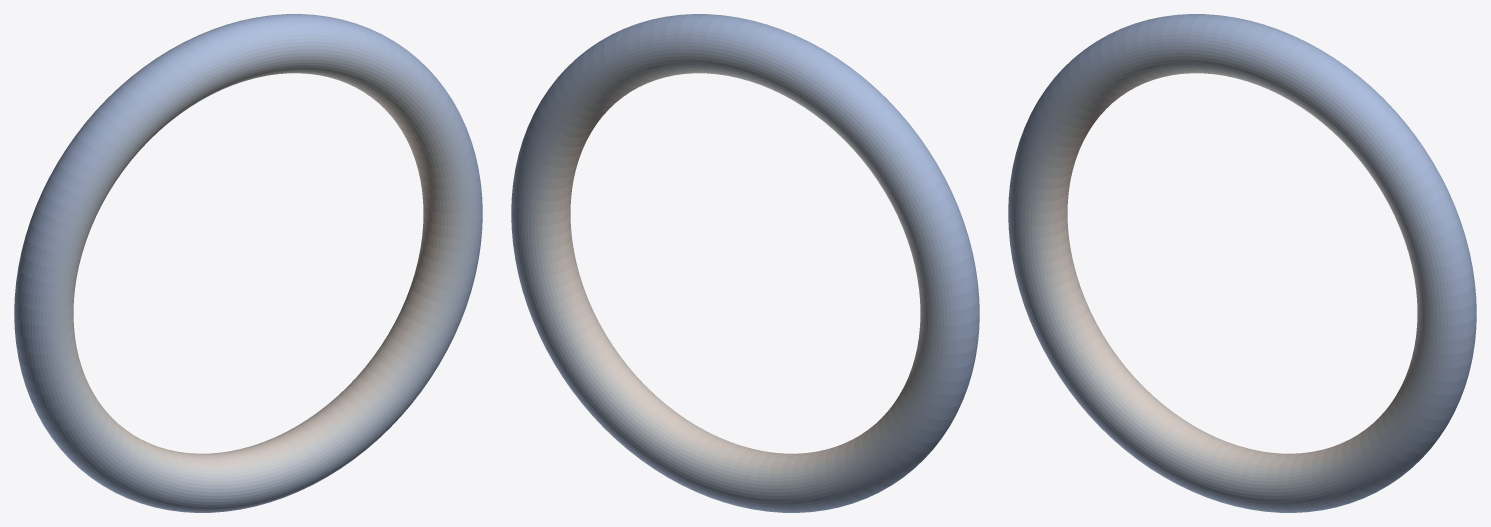
The picture shows the model from 3 angles, left to right: view 1: azimuth 30°, elevation 25°; view 2: azimuth 150°, elevation 25°; view 3: azimuth 330°, elevation 25°; orthographic projection.
Parts seen in each view (by area): view 1: world; view 2: world; view 3: world.
Boxes of the visible parts, <box> form: world: <box>14,14,482,512</box>; world: <box>511,14,979,512</box>; world: <box>1008,14,1476,512</box>.
Size of the model in its own units: 32.27 by 32.27 by 3.59.
